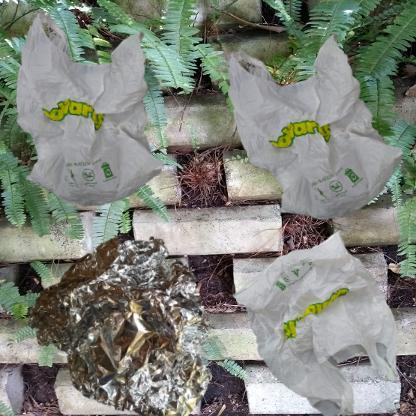aluminio: (10, 213, 246, 416)
bolsa: (213, 10, 416, 262), (213, 213, 416, 416), (10, 10, 174, 213)
